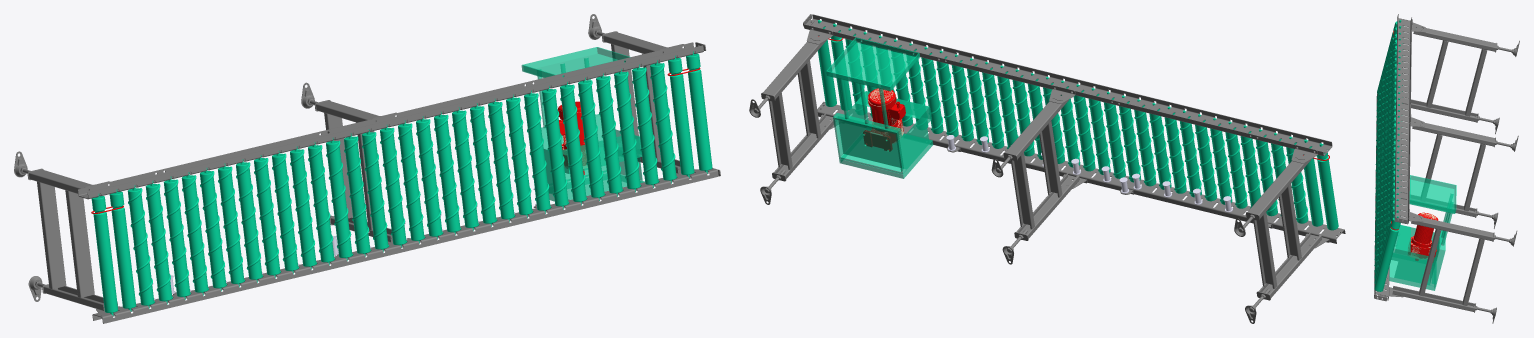
Rendered from Convey-v2.glb.
3 views of the same model, side by side, from view 1: azimuth 30°, elevation 25°; view 2: azimuth 150°, elevation 25°; view 3: azimuth 270°, elevation 25° (orthographic). The views are drawn at different scales.
Visible parts, largest first — view 1: Frame_01(Frame_01.1), Motor_01_box(Motor_01_box.1), Frame_05_Horizontal(Frame_05_Horizontal.6), Frame_05_Horizontal(Frame_05_Horizontal.5), Roller_01(Roller_01.27), Roller_01(Roller_01.2), Roller_01(Roller_01.7), Roller_01(Roller_01.8), Roller_01(Roller_01.18), Roller_01(Roller_01.19), Roller_01(Roller_01.28), Roller_01(Roller_01.25) (+34 smaller); view 2: Frame_01(Frame_01.1), Motor_01_box(Motor_01_box.1), Motor_02_body(Motor_02_body.1), Frame_04_Vertical(Frame_04_Vertical.4), Frame_04_Vertical(Frame_04_Vertical.7), Frame_04_Vertical(Frame_04_Vertical.3), Frame_05_Horizontal(Frame_05_Horizontal.1), Frame_05_Horizontal(Frame_05_Horizontal.2), Frame_05_Horizontal(Frame_05_Horizontal.6), Frame_05_Horizontal(Frame_05_Horizontal.4), Frame_05_Horizontal(Frame_05_Horizontal.5), Frame_05_Horizontal(Frame_05_Horizontal.3) (+36 smaller); view 3: Motor_01_box(Motor_01_box.1), Frame_01(Frame_01.1), Motor_02_body(Motor_02_body.1), Frame_04_Vertical(Frame_04_Vertical.6), Frame_04_Vertical(Frame_04_Vertical.4), Frame_04_Vertical(Frame_04_Vertical.7), Frame_04_Vertical(Frame_04_Vertical.3), Roller_02_Grooved(Roller_02_Grooved.1), Frame_04_Vertical(Frame_04_Vertical.2), Frame_05_Horizontal(Frame_05_Horizontal.5), Frame_05_Horizontal(Frame_05_Horizontal.1), Frame_05_Horizontal(Frame_05_Horizontal.2) (+40 smaller).
Part boxes in pixels (<box>): Frame_01(Frame_01.1): <box>77,42,718,323</box>; Motor_01_box(Motor_01_box.1): <box>521,47,644,201</box>; Frame_05_Horizontal(Frame_05_Horizontal.6): <box>37,181,66,289</box>; Frame_05_Horizontal(Frame_05_Horizontal.5): <box>65,190,94,297</box>; Roller_01(Roller_01.27): <box>181,172,208,295</box>; Roller_01(Roller_01.2): <box>632,64,659,187</box>; Roller_01(Roller_01.7): <box>542,86,569,209</box>; Roller_01(Roller_01.8): <box>524,90,551,213</box>; Roller_01(Roller_01.18): <box>344,133,371,256</box>; Roller_01(Roller_01.19): <box>362,129,389,252</box>; Roller_01(Roller_01.28): <box>163,176,190,299</box>; Roller_01(Roller_01.25): <box>470,103,497,226</box>; Frame_01(Frame_01.1): <box>803,14,1345,243</box>; Motor_01_box(Motor_01_box.1): <box>826,37,933,178</box>; Motor_02_body(Motor_02_body.1): <box>863,88,905,151</box>; Frame_04_Vertical(Frame_04_Vertical.4): <box>1003,95,1068,161</box>; Frame_04_Vertical(Frame_04_Vertical.7): <box>761,35,826,101</box>; Frame_04_Vertical(Frame_04_Vertical.3): <box>1246,154,1311,220</box>; Frame_05_Horizontal(Frame_05_Horizontal.1): <box>797,60,820,138</box>; Frame_05_Horizontal(Frame_05_Horizontal.2): <box>768,93,792,169</box>; Frame_05_Horizontal(Frame_05_Horizontal.6): <box>1253,212,1277,288</box>; Frame_05_Horizontal(Frame_05_Horizontal.4): <box>1010,152,1034,229</box>; Frame_05_Horizontal(Frame_05_Horizontal.5): <box>1278,184,1301,260</box>; Frame_05_Horizontal(Frame_05_Horizontal.3): <box>1039,121,1062,197</box>; Motor_01_box(Motor_01_box.1): <box>1389,175,1456,290</box>; Frame_01(Frame_01.1): <box>1374,14,1411,300</box>; Motor_02_body(Motor_02_body.1): <box>1408,212,1438,262</box>; Frame_04_Vertical(Frame_04_Vertical.6): <box>1392,286,1475,312</box>; Frame_04_Vertical(Frame_04_Vertical.4): <box>1412,122,1495,147</box>; Frame_04_Vertical(Frame_04_Vertical.7): <box>1411,216,1494,241</box>; Frame_04_Vertical(Frame_04_Vertical.3): <box>1413,27,1497,52</box>; Roller_02_Grooved(Roller_02_Grooved.1): <box>1374,216,1400,291</box>; Frame_04_Vertical(Frame_04_Vertical.2): <box>1403,97,1478,122</box>; Frame_05_Horizontal(Frame_05_Horizontal.5): <box>1426,40,1448,107</box>; Frame_05_Horizontal(Frame_05_Horizontal.1): <box>1419,229,1441,296</box>; Frame_05_Horizontal(Frame_05_Horizontal.2): <box>1462,238,1484,305</box>.
Bounding box in the file's own units: 3.01 × 0.7848 × 0.9128.
